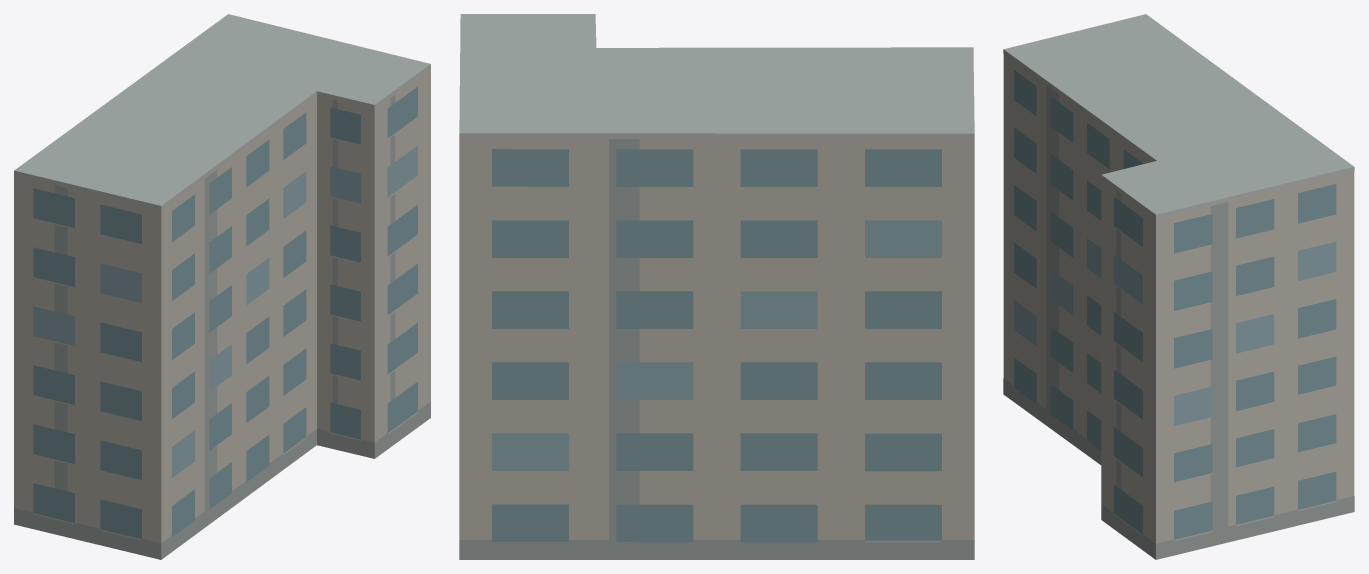
Rendered from survey-upis-32574981.glb.
3 views of the same model, side by side, from view 1: azimuth 30°, elevation 25°; view 2: azimuth 150°, elevation 25°; view 3: azimuth 270°, elevation 25° (orthographic). The views are drawn at different scales.
Parts seen in each view (by area): view 1: survey-upis-32574981.tmp; view 2: survey-upis-32574981.tmp; view 3: survey-upis-32574981.tmp.
Part boxes in pixels (bbox=[...]): survey-upis-32574981.tmp: bbox=[14, 14, 430, 559]; survey-upis-32574981.tmp: bbox=[459, 14, 974, 559]; survey-upis-32574981.tmp: bbox=[1003, 14, 1354, 559].
Bounding box in the file's own units: 22.83 × 18.3 × 16.87.
